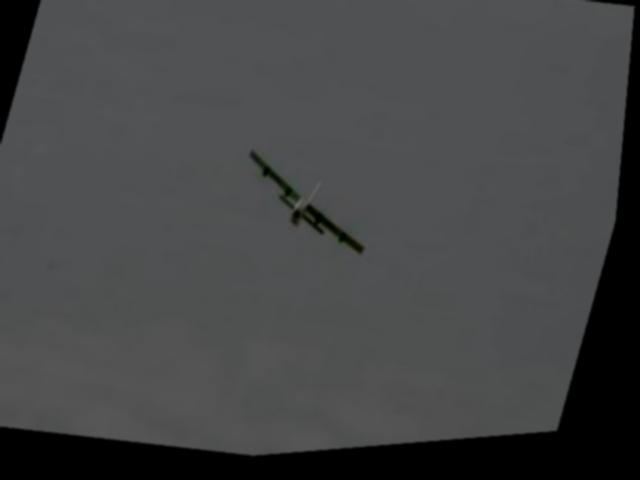uav: (224, 140, 396, 278)
